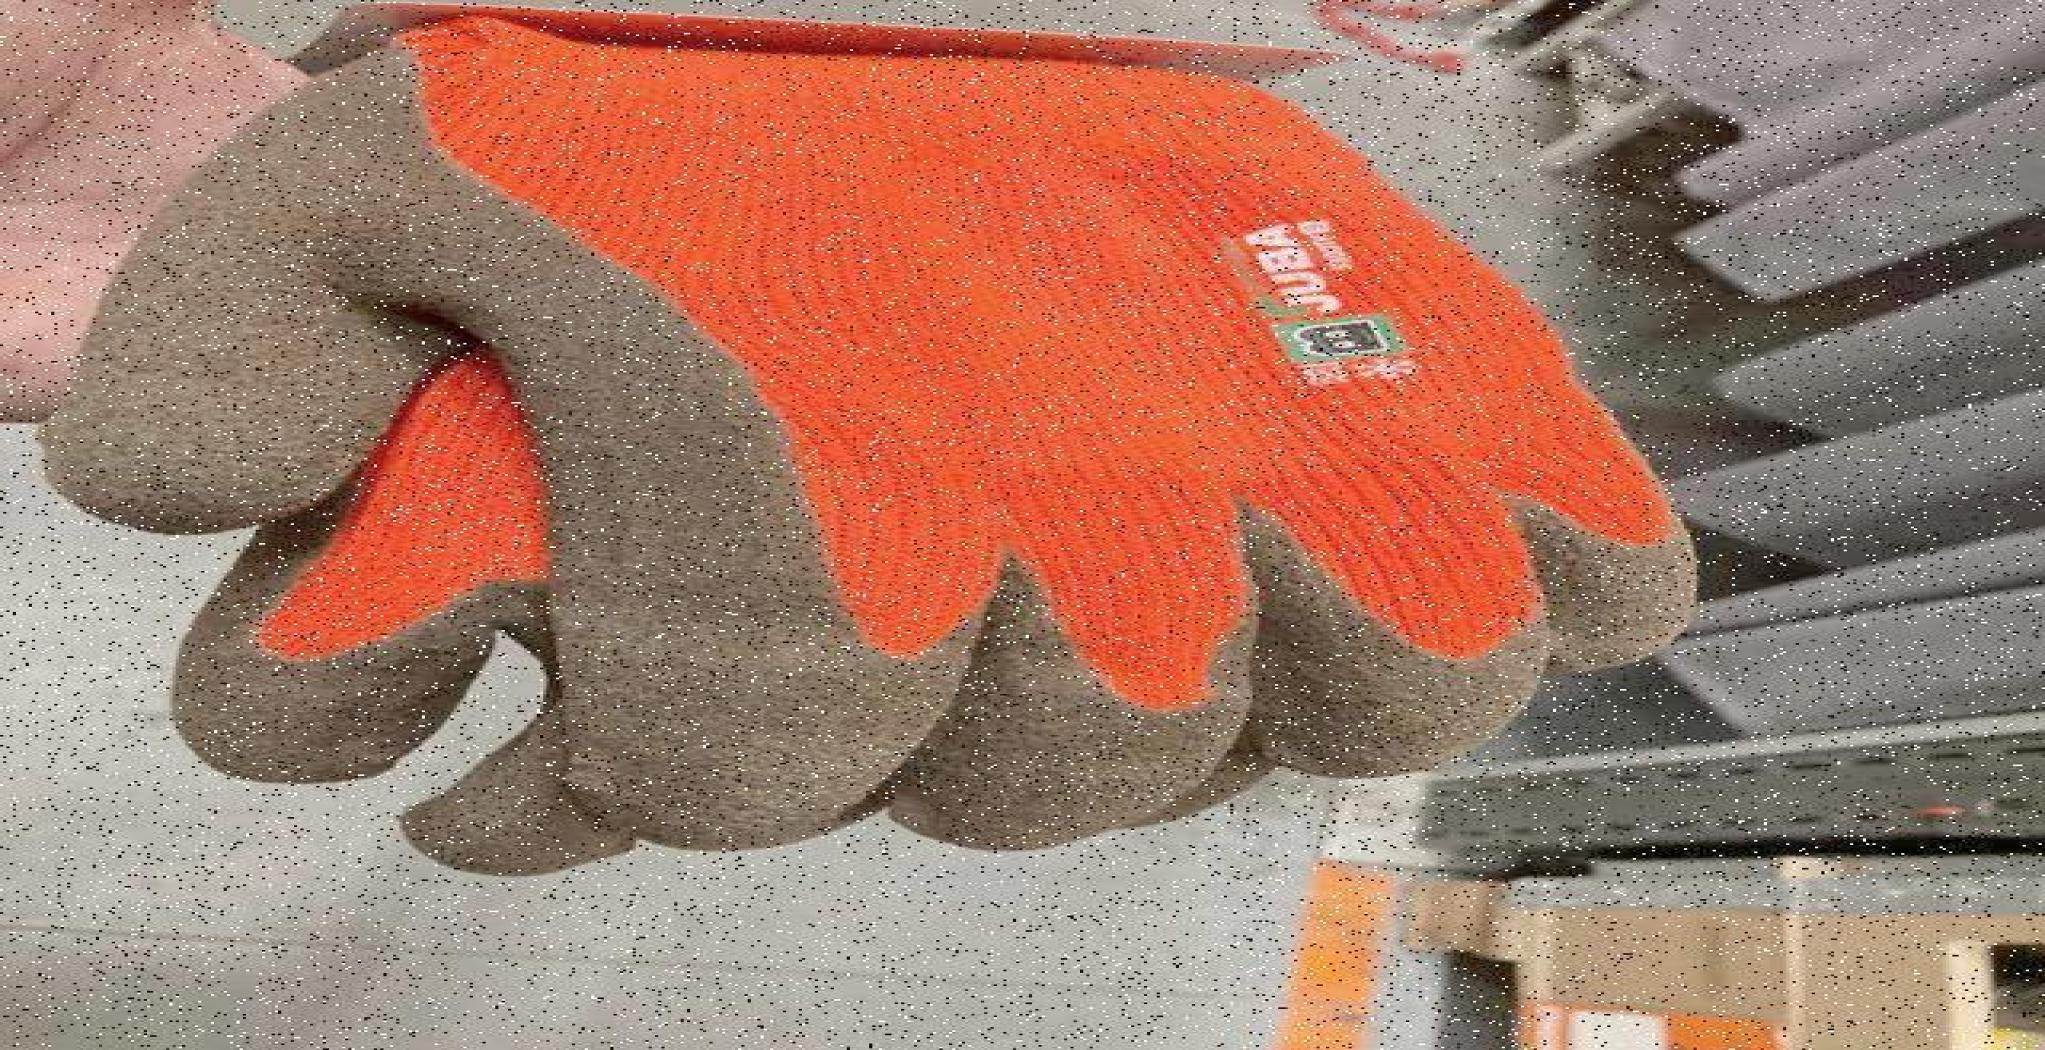gloved: (38, 0, 1775, 892)
